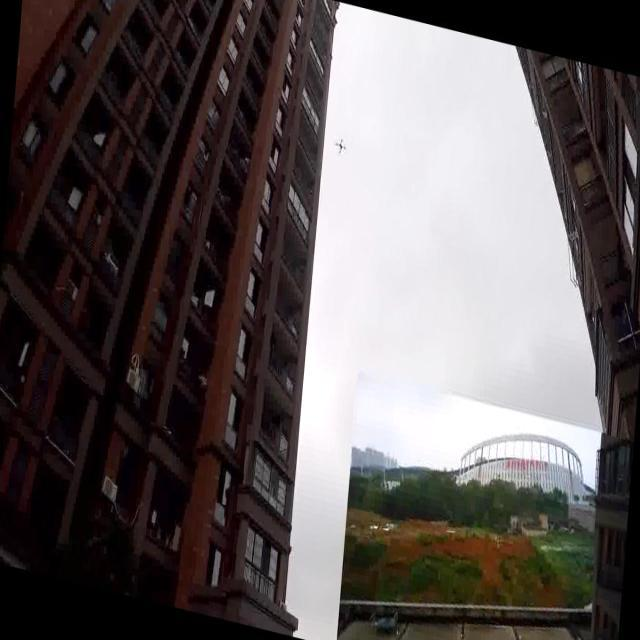drone: (334, 131, 352, 161)
